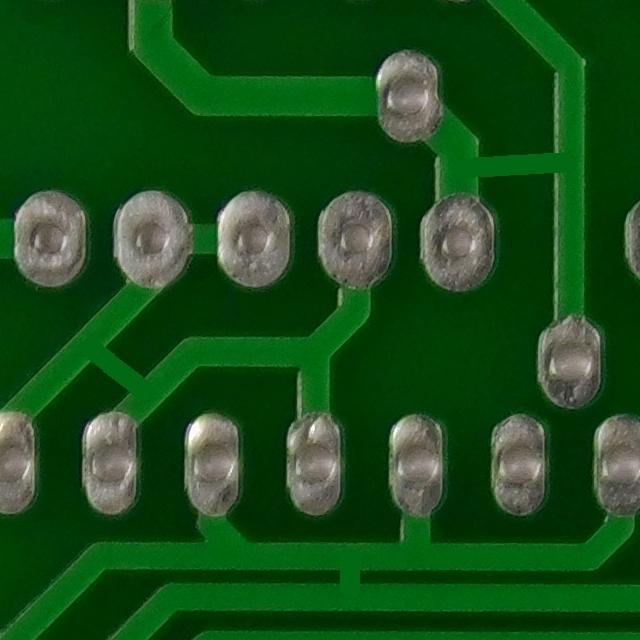short: (433, 127, 605, 210), (51, 327, 164, 423), (307, 532, 384, 622)
